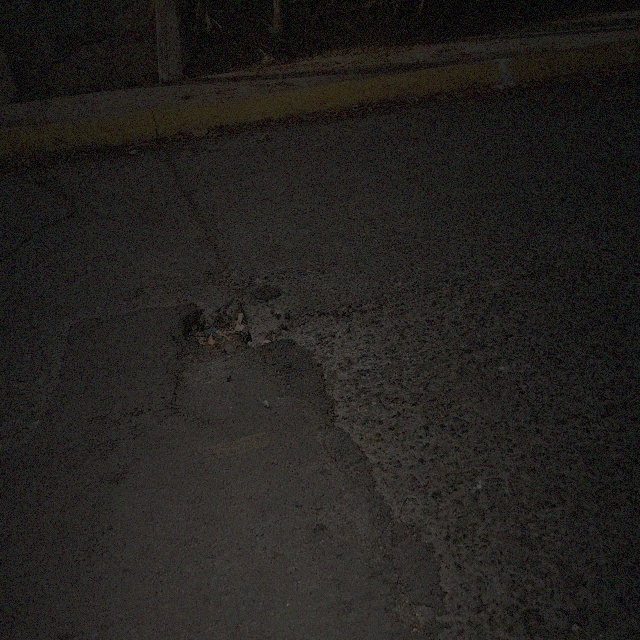pothole: (183, 294, 256, 358)
